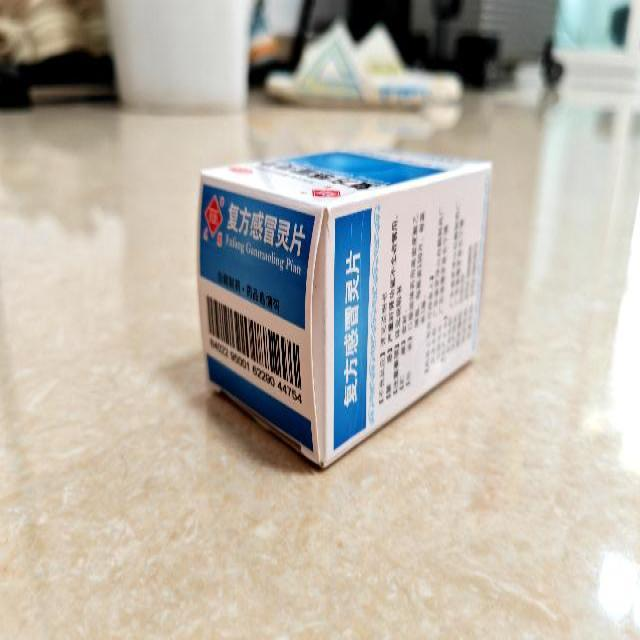box: (196, 142, 494, 469)
